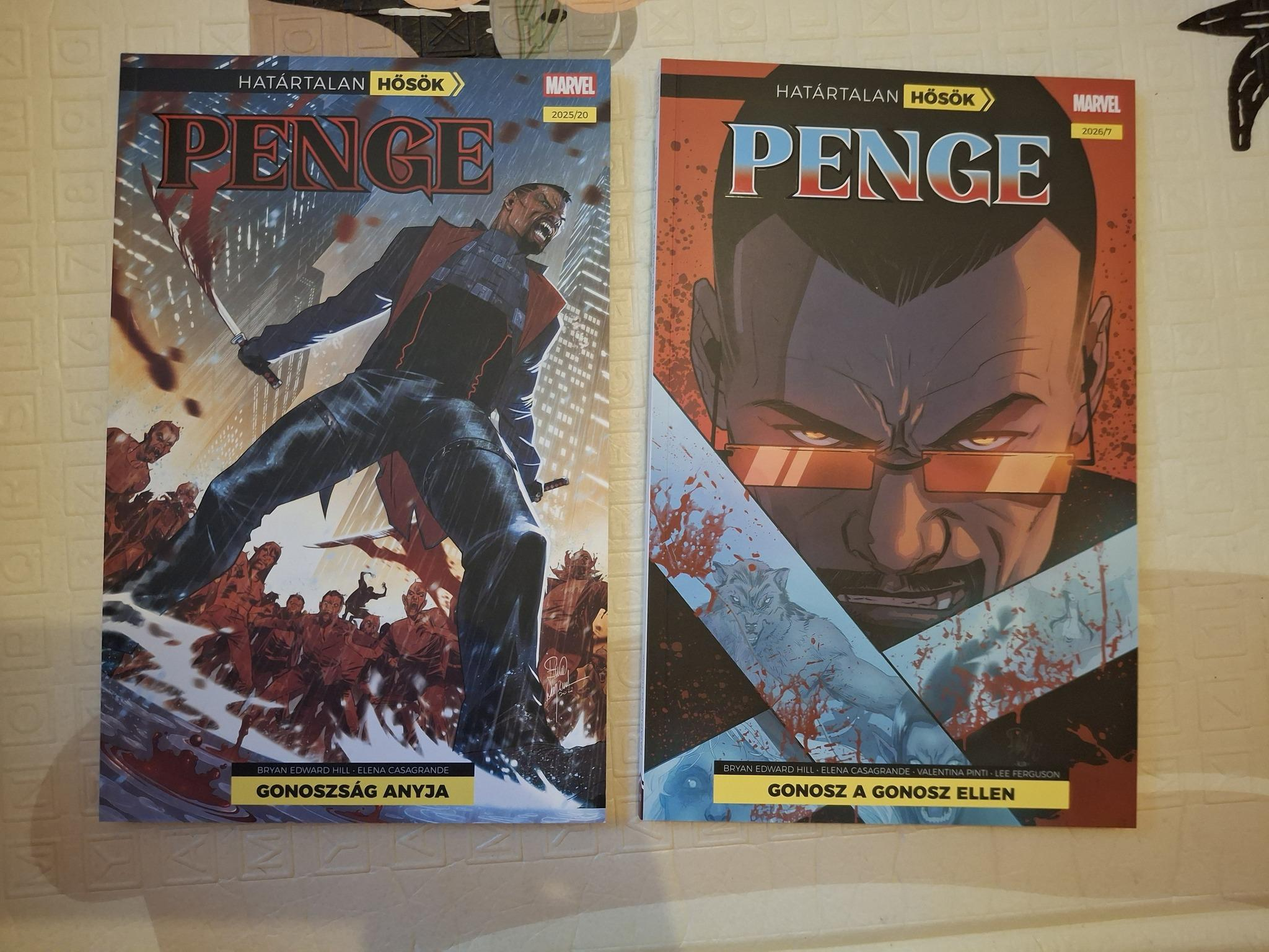comic: (100, 53, 616, 828), (641, 61, 1145, 826)
